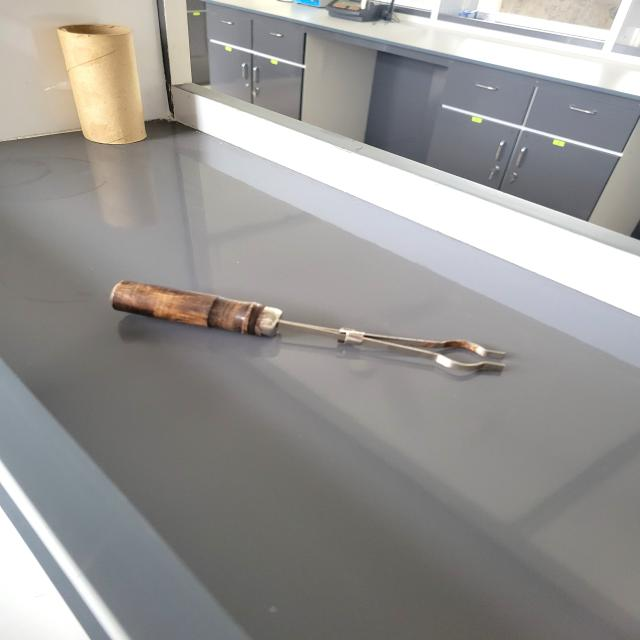TestTube_Holder: (88, 267, 524, 391)
